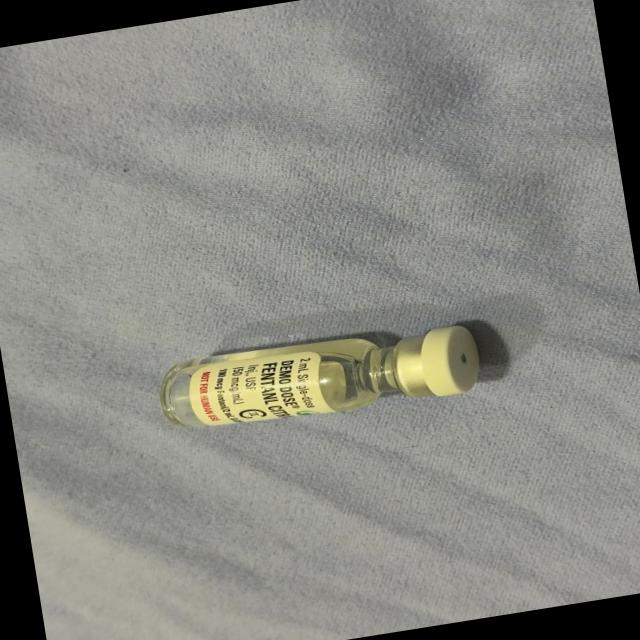fentanl_citrat: (160, 314, 480, 438)
